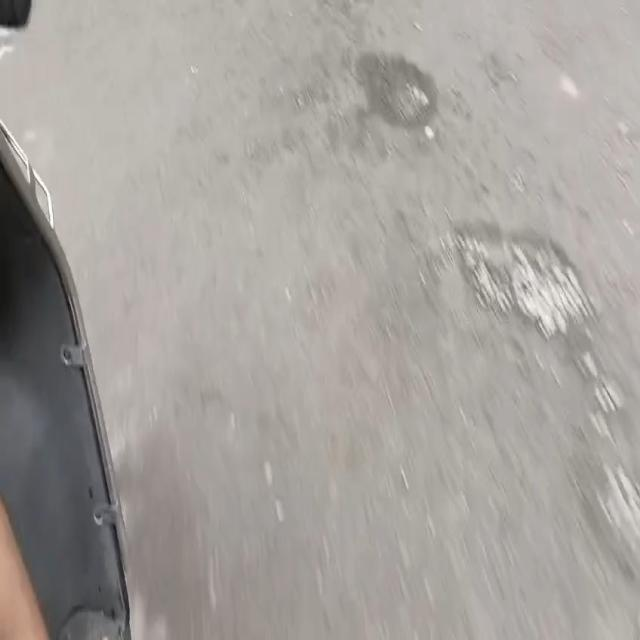road-pothole: (449, 217, 594, 348), (572, 441, 639, 581), (357, 51, 442, 133)
